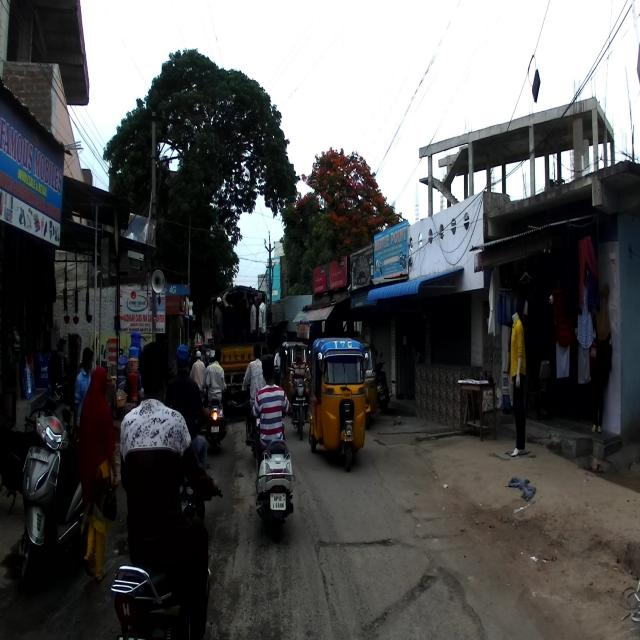autorickshaw: (307, 336, 369, 474)
motorcycle: (109, 473, 223, 639)
scooter: (17, 411, 89, 590), (249, 411, 296, 544)
